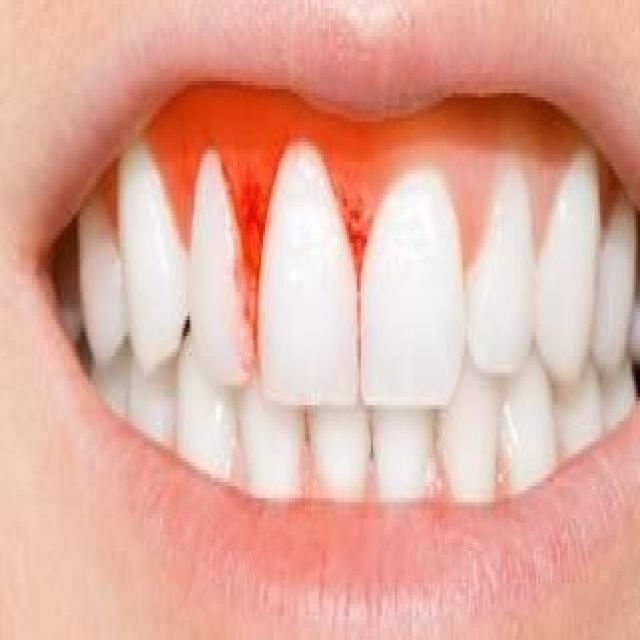Gingivitis: (237, 138, 269, 275), (343, 182, 371, 272)
